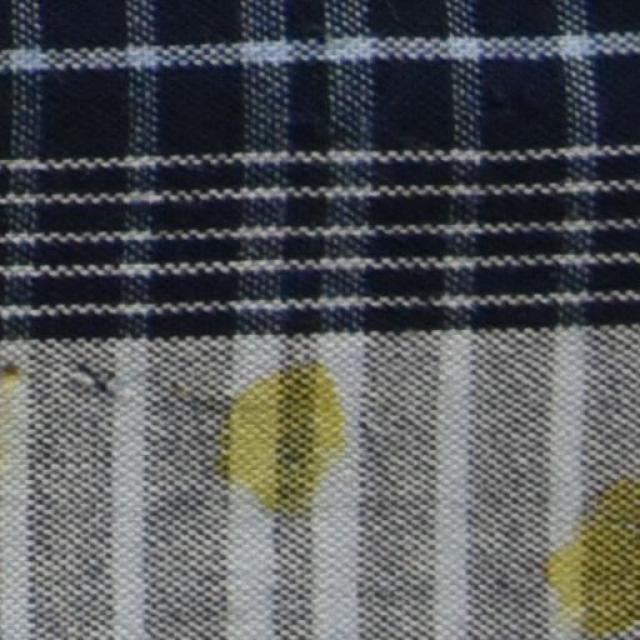Stain: (211, 351, 353, 502), (545, 479, 639, 639)
